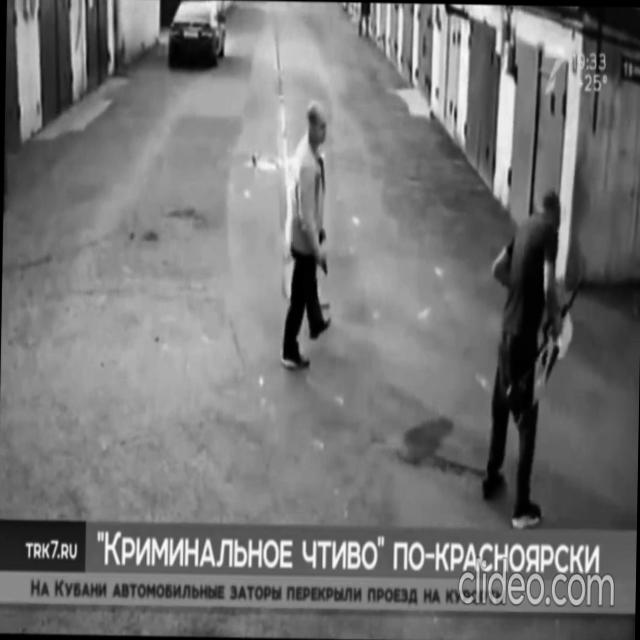gun: (505, 264, 588, 428), (322, 252, 328, 280)
person with a gun: (480, 188, 563, 528), (280, 97, 336, 372)
